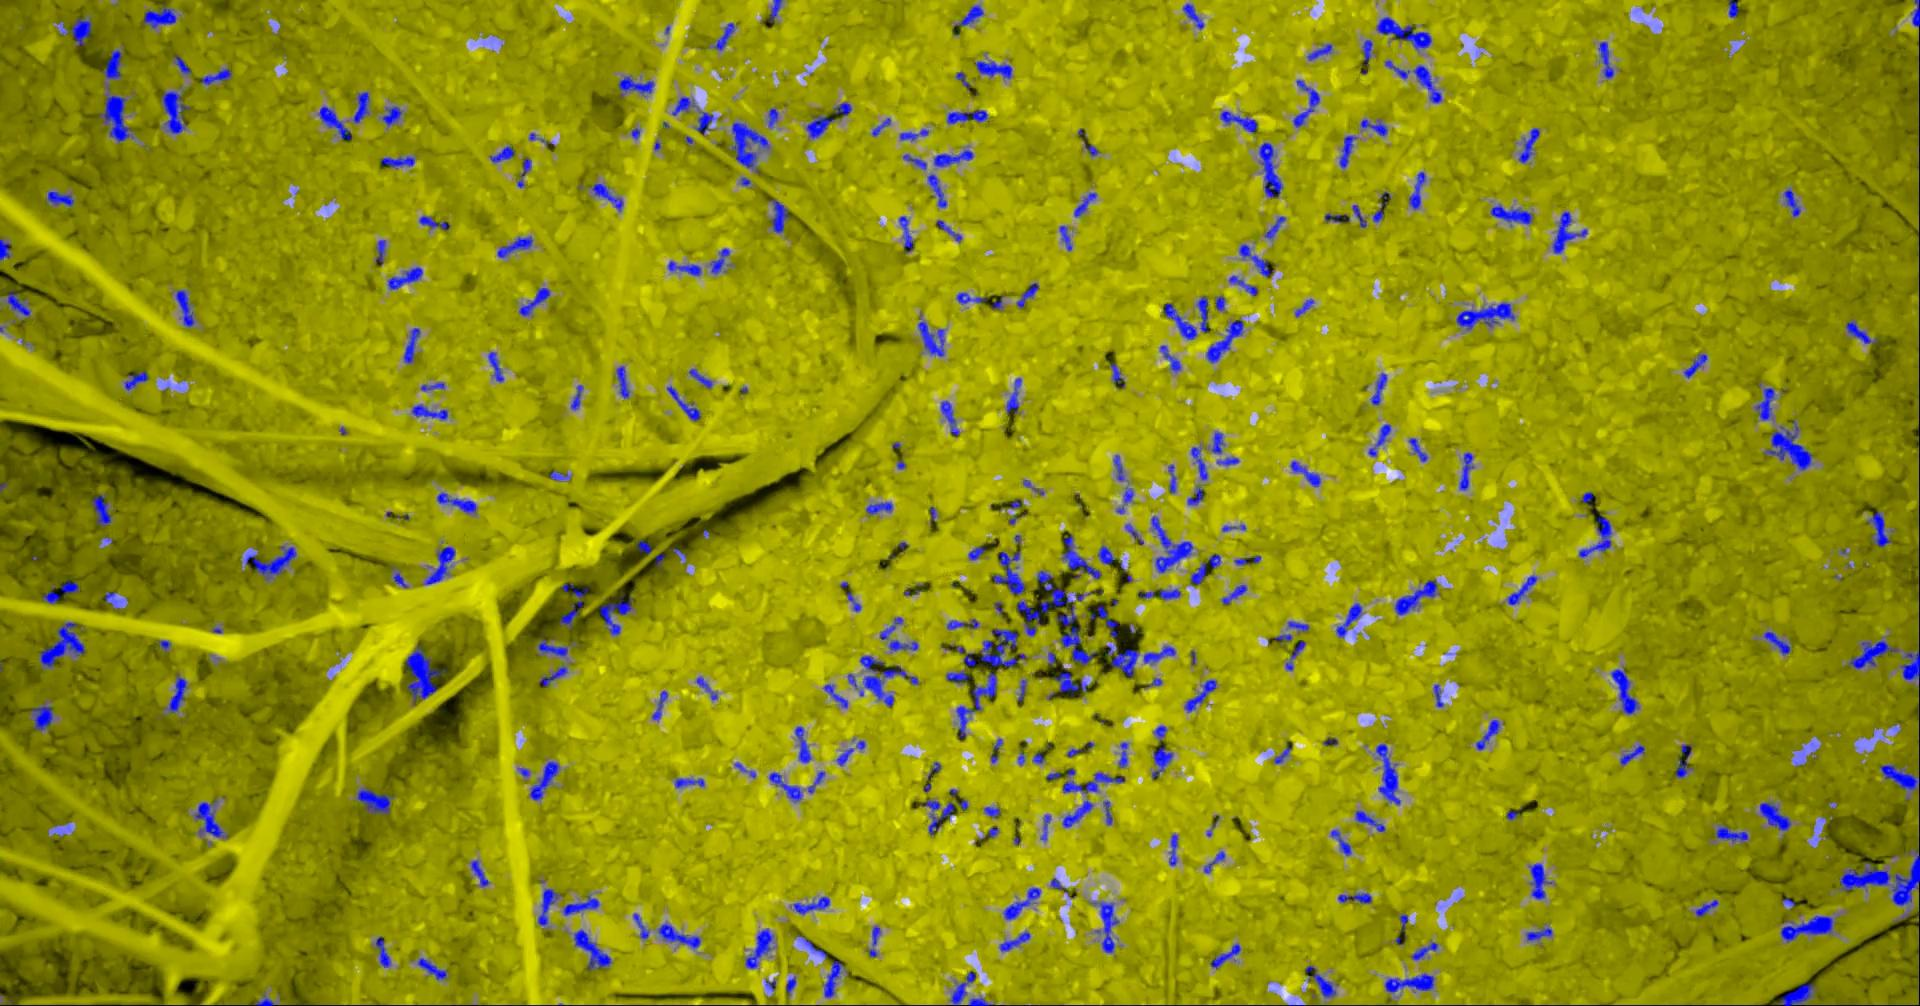ant: (861, 655, 919, 706), (957, 672, 998, 738), (1765, 419, 1813, 470), (1385, 60, 1443, 102), (1152, 514, 1194, 572), (406, 645, 447, 702), (41, 621, 86, 668), (1164, 296, 1209, 339), (246, 545, 298, 580), (1063, 531, 1102, 578), (982, 627, 1029, 667), (1378, 17, 1432, 50), (100, 94, 135, 142), (733, 122, 770, 166), (1208, 319, 1244, 363), (1458, 302, 1516, 329), (1377, 743, 1402, 804), (575, 929, 613, 969), (1396, 579, 1440, 614), (993, 550, 1026, 594), (1782, 915, 1834, 942), (1554, 211, 1589, 253), (1580, 514, 1613, 558), (601, 594, 635, 635), (1849, 640, 1898, 668), (1093, 901, 1120, 951), (1611, 668, 1641, 714), (1260, 142, 1284, 197), (1294, 79, 1321, 127), (1064, 772, 1126, 793), (921, 799, 956, 835), (163, 90, 192, 133), (196, 799, 229, 837), (1004, 887, 1043, 920), (561, 583, 589, 627), (668, 385, 702, 420), (425, 546, 457, 584), (531, 760, 560, 800), (1241, 244, 1275, 277), (747, 929, 775, 968), (320, 105, 353, 138), (1186, 680, 1218, 713), (659, 923, 702, 948), (919, 318, 946, 356), (1882, 763, 1920, 790), (1305, 965, 1337, 997), (58, 17, 93, 46), (1109, 645, 1140, 676), (1192, 553, 1222, 586), (770, 772, 803, 801), (1055, 667, 1090, 695), (358, 788, 394, 814), (1385, 973, 1435, 992), (592, 183, 625, 211), (538, 888, 563, 925), (1091, 605, 1119, 636), (389, 265, 424, 290), (1869, 511, 1893, 546), (1509, 575, 1538, 605), (521, 287, 551, 315), (1477, 719, 1505, 749), (1761, 801, 1792, 829), (438, 492, 477, 513), (43, 580, 80, 603), (1337, 603, 1363, 636), (952, 970, 977, 1005), (1291, 460, 1322, 486), (1064, 800, 1095, 827), (1492, 205, 1534, 224), (618, 75, 655, 97), (1222, 111, 1258, 132), (498, 235, 535, 257), (1531, 862, 1553, 899), (1211, 942, 1242, 968), (1520, 127, 1542, 163), (1369, 423, 1392, 456), (1782, 983, 1816, 1005), (1848, 320, 1879, 343), (169, 674, 188, 713), (825, 959, 844, 997), (143, 6, 177, 28), (1153, 746, 1175, 779), (808, 114, 837, 138), (177, 290, 196, 326), (564, 895, 601, 915), (935, 149, 974, 166), (770, 198, 790, 232), (1410, 171, 1427, 210), (795, 895, 830, 915), (1756, 387, 1777, 420), (419, 956, 448, 979), (977, 60, 1013, 77), (930, 173, 949, 207), (942, 400, 961, 434), (1001, 931, 1032, 951), (32, 702, 55, 730), (799, 935, 828, 956), (93, 494, 113, 525), (538, 635, 569, 655), (1685, 353, 1709, 379), (1765, 631, 1792, 654), (1902, 649, 1920, 683), (405, 326, 422, 363), (1007, 377, 1023, 414), (715, 22, 737, 50), (541, 664, 569, 686), (1192, 445, 1209, 480), (796, 727, 813, 762), (938, 218, 963, 243), (825, 683, 850, 708), (1076, 192, 1098, 217), (1017, 282, 1040, 307), (8, 290, 30, 315), (1161, 345, 1183, 371), (1183, 3, 1205, 29), (957, 5, 985, 25), (949, 109, 989, 123), (1079, 128, 1100, 156), (1357, 810, 1385, 831), (1145, 645, 1177, 663), (1600, 41, 1615, 77), (413, 404, 450, 419), (1341, 135, 1357, 168), (1371, 372, 1388, 405), (1677, 744, 1694, 777), (900, 216, 916, 251), (104, 50, 123, 77), (1230, 276, 1258, 295), (1462, 452, 1476, 490), (354, 91, 371, 123), (1717, 824, 1749, 841), (881, 616, 904, 639), (952, 644, 977, 666), (1288, 640, 1305, 669), (1223, 584, 1248, 605), (1332, 829, 1352, 855), (669, 260, 702, 276), (489, 351, 505, 381), (472, 859, 490, 887), (124, 370, 149, 390), (712, 248, 731, 273), (653, 690, 669, 719), (1266, 216, 1288, 238), (202, 69, 232, 84), (698, 676, 719, 699), (1205, 850, 1225, 873), (377, 936, 392, 967), (1785, 188, 1802, 216), (673, 97, 697, 116), (1410, 437, 1429, 461), (1622, 744, 1646, 763), (1413, 942, 1439, 960), (1068, 741, 1095, 757), (690, 368, 712, 387), (491, 145, 516, 163), (420, 215, 451, 229), (1309, 43, 1335, 60), (618, 365, 631, 398), (518, 158, 532, 187), (1363, 119, 1389, 135), (698, 111, 715, 135), (634, 913, 650, 937), (1338, 892, 1373, 903), (50, 191, 75, 206), (1126, 523, 1145, 544), (1098, 545, 1119, 564), (869, 926, 881, 956), (1697, 899, 1719, 916), (867, 500, 894, 514), (904, 154, 928, 169), (383, 105, 403, 124), (872, 117, 891, 136), (809, 771, 825, 793), (1112, 362, 1126, 387), (382, 156, 417, 166), (957, 292, 988, 304), (1297, 298, 1316, 316), (1189, 485, 1206, 504), (1528, 927, 1554, 940), (890, 639, 919, 650), (571, 384, 584, 409), (949, 619, 980, 629), (902, 128, 930, 140), (1354, 205, 1368, 227), (947, 669, 970, 683), (1051, 876, 1070, 893), (847, 591, 862, 611), (1115, 453, 1126, 480), (770, 0, 783, 22), (177, 55, 193, 72), (1275, 746, 1291, 763), (838, 747, 855, 765), (1062, 225, 1073, 250), (1213, 431, 1225, 453), (676, 779, 706, 788), (1170, 835, 1178, 865), (957, 71, 971, 90), (1, 238, 13, 260), (1364, 39, 1374, 65), (377, 239, 387, 264), (1041, 814, 1051, 840), (836, 102, 853, 116), (1170, 464, 1178, 492), (105, 591, 119, 608), (1161, 588, 1182, 600), (1435, 683, 1445, 708), (1103, 800, 1114, 824), (1120, 741, 1129, 767), (394, 572, 409, 587), (1326, 213, 1351, 222), (550, 470, 571, 480), (254, 995, 276, 1005), (637, 539, 651, 554), (970, 546, 987, 559), (1912, 0, 1920, 25), (1156, 725, 1168, 741), (787, 976, 797, 995), (970, 997, 996, 1005), (1289, 621, 1310, 630), (422, 382, 446, 390), (1125, 486, 1135, 504), (770, 108, 778, 127), (1730, 0, 1740, 17), (1218, 457, 1239, 465), (1374, 208, 1385, 222), (1583, 492, 1595, 506), (985, 807, 1001, 817), (1223, 525, 1247, 531), (1217, 295, 1225, 310)
